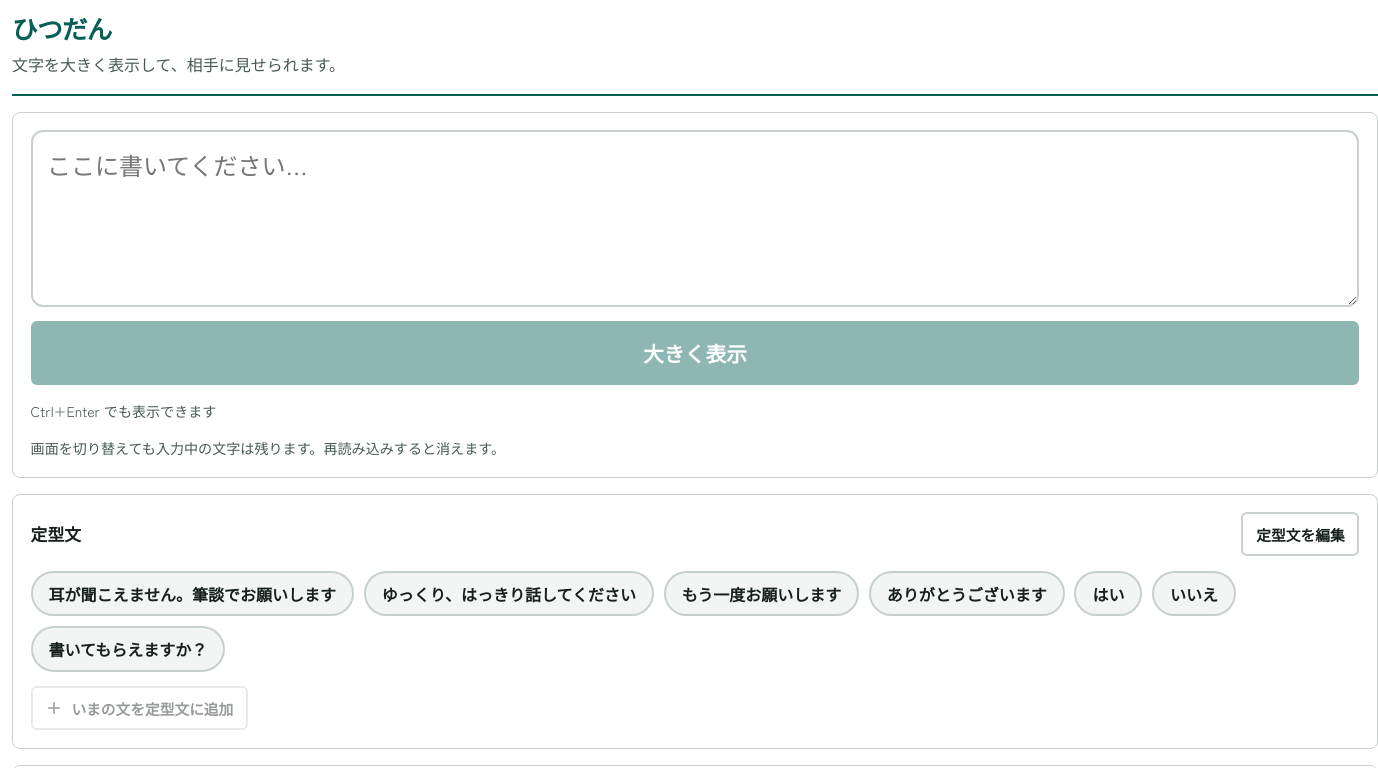
Test: Board › disables the show button until text is entered
Expected: the button "大きく表示" is disabled, [31,322,1359,386]
Type "こんにちは" into the text box named "ひつだん" at (695, 219), box [31,130,1359,307]
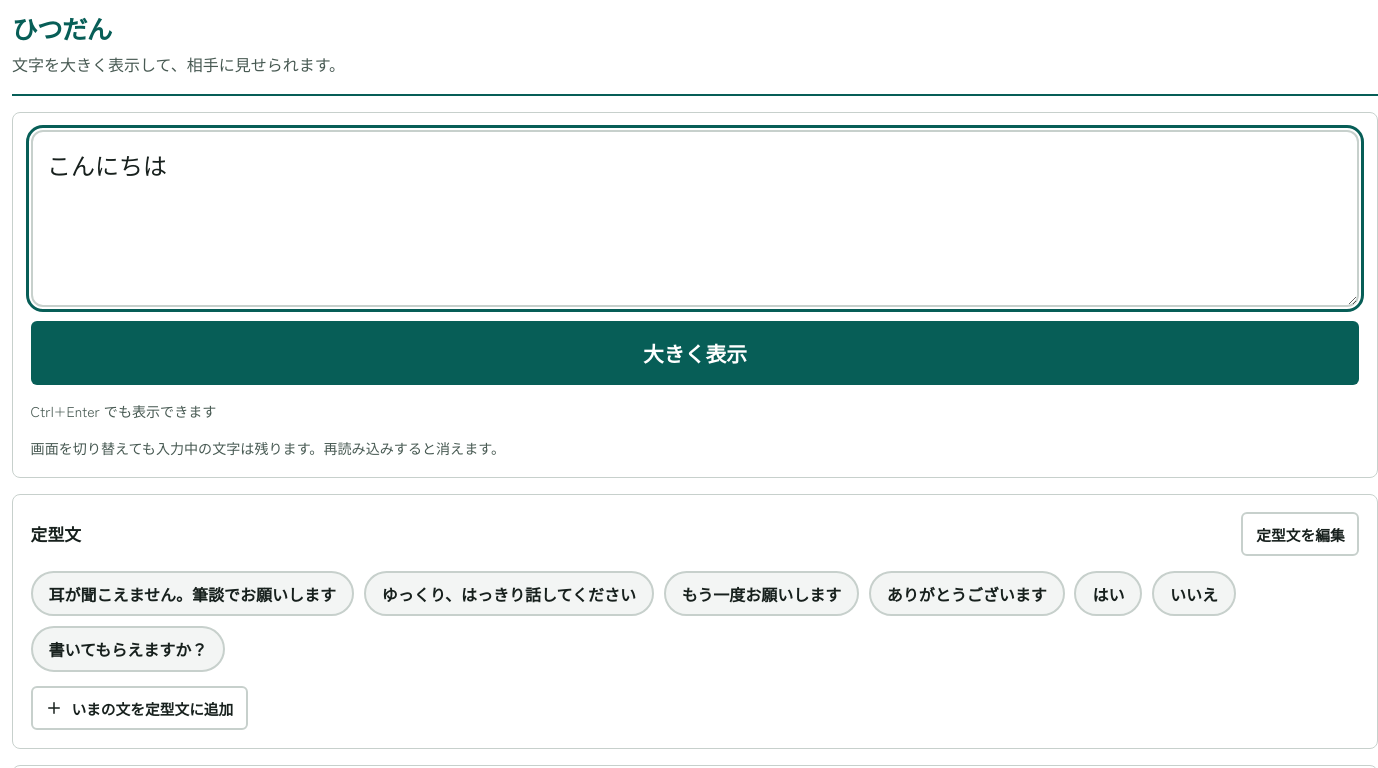
Result: the button "大きく表示" is enabled at [31,322,1359,386]
